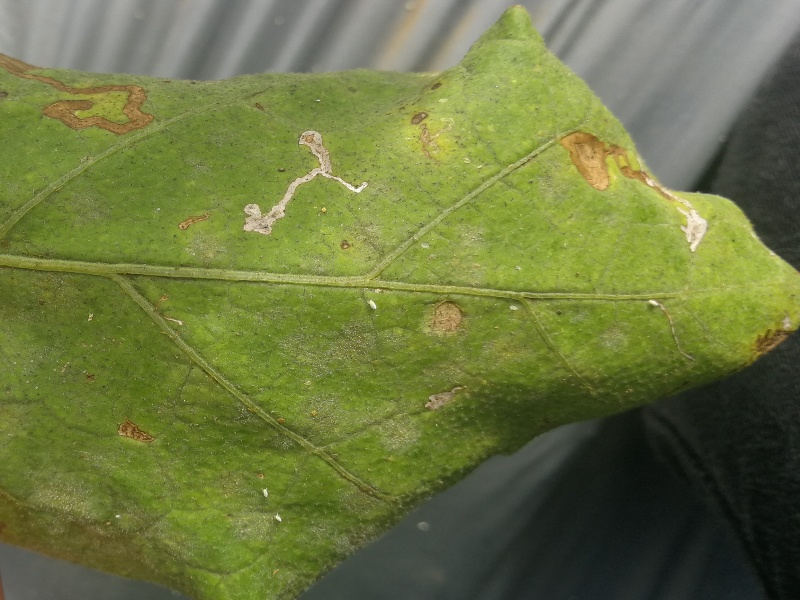leafminer: (552, 115, 713, 260), (237, 121, 375, 242), (1, 44, 163, 144), (108, 408, 165, 459)
